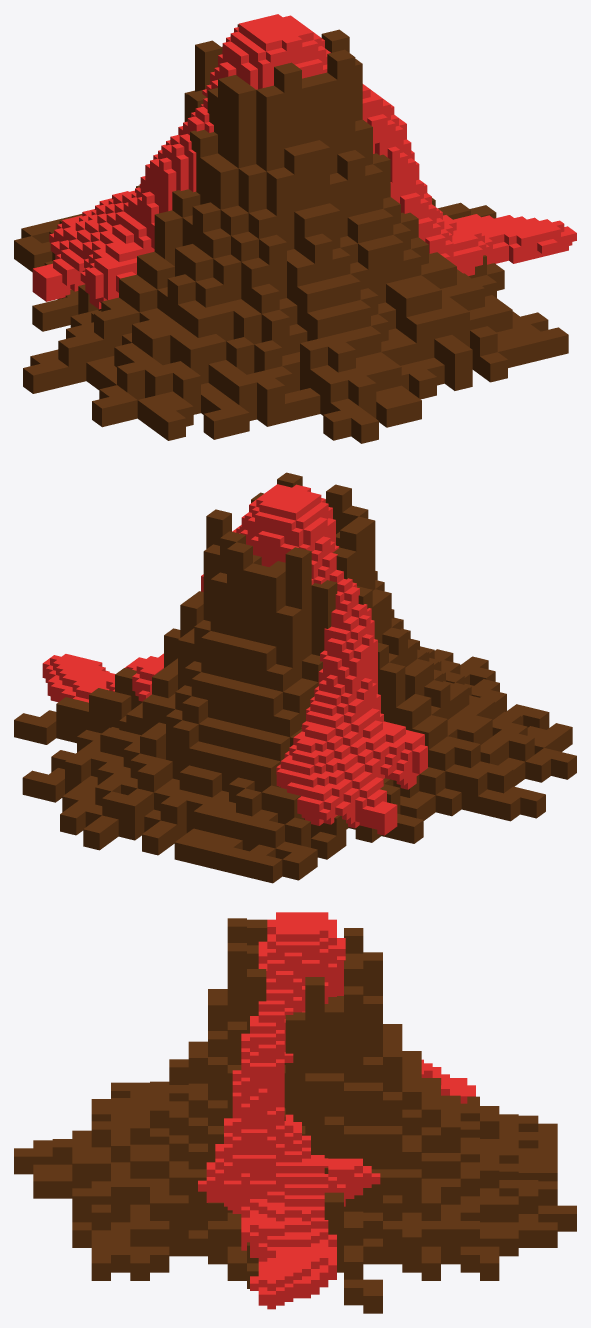
3 renders of one model, top to bottom at view 1: azimuth 30°, elevation 25°; view 2: azimuth 150°, elevation 25°; view 3: azimuth 270°, elevation 25°, orthographic. The views are drawn at different scales.
Parts seen in each view (by area): view 1: volcano2, Liquid Domain; view 2: volcano2, Liquid Domain; view 3: volcano2, Liquid Domain.
Boxes of the visible parts, bbox=[...] form: volcano2: bbox=[14, 24, 568, 443]; Liquid Domain: bbox=[32, 14, 576, 309]; volcano2: bbox=[14, 472, 576, 883]; Liquid Domain: bbox=[42, 484, 427, 835]; volcano2: bbox=[14, 918, 576, 1313]; Liquid Domain: bbox=[198, 912, 475, 1309].
Bounding box in the file's own units: 5492 × 2841 × 5234.
